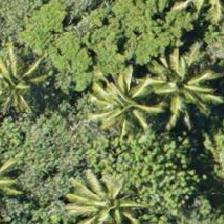coconut_tree: (77, 56, 167, 146), (139, 42, 223, 132), (75, 142, 165, 223), (0, 38, 49, 128)
